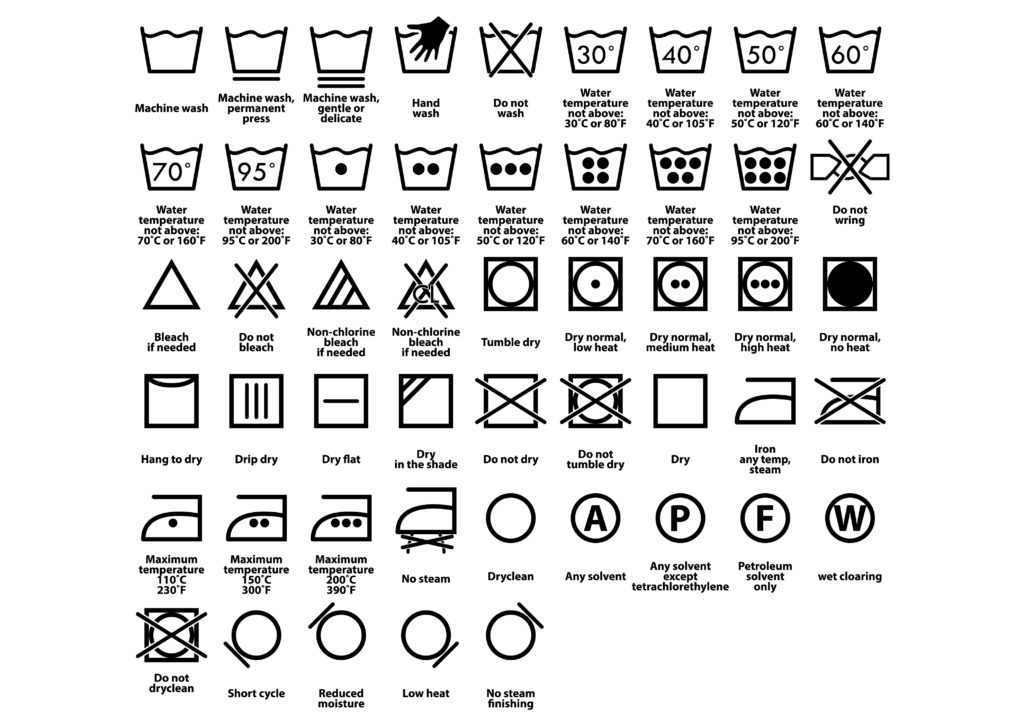do_not_bleach: (225, 255, 291, 319)
do_not_iron: (808, 369, 890, 433)
do_not_wash: (472, 16, 546, 83)
